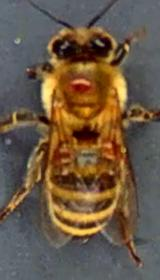varroa_mite: (56, 65, 106, 100), (94, 128, 124, 162), (50, 140, 86, 166)
